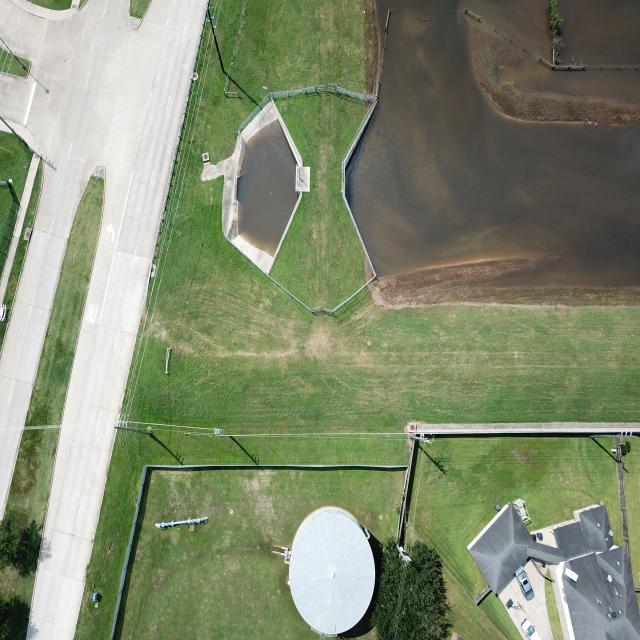fire: (346, 0, 640, 287), (236, 118, 298, 255)
